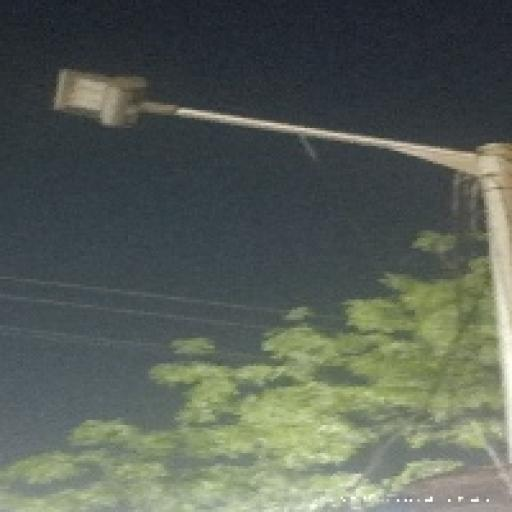Not Working: (43, 58, 161, 142)
